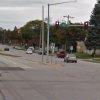Car: (53, 42, 81, 68)
